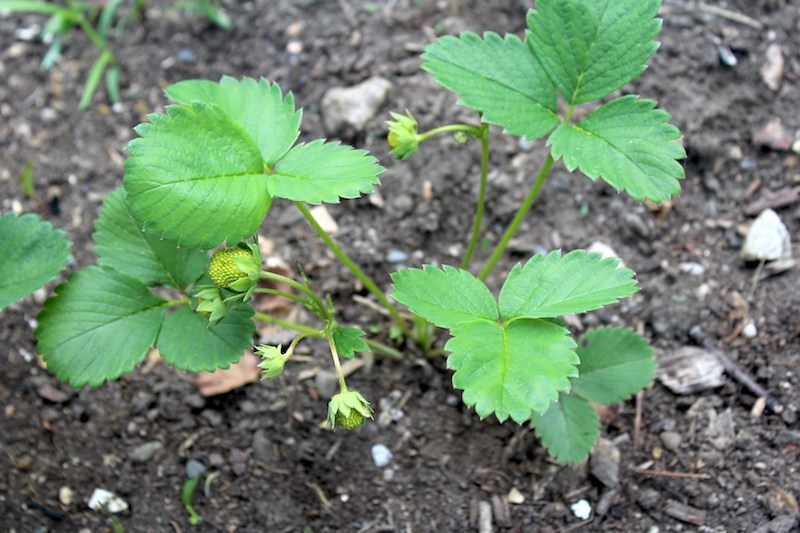unripe_strawberry: (208, 246, 256, 287), (327, 393, 366, 435)
